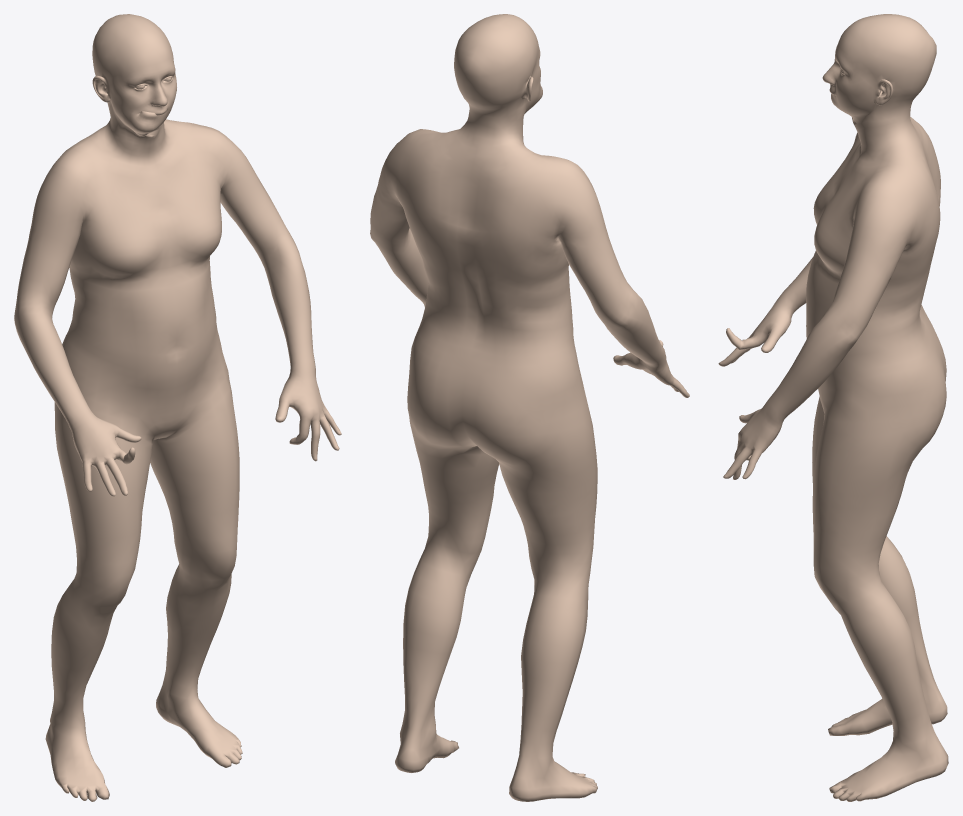
Rendered from WORD-00384.glb.
3 renders of one model, left to right at view 1: azimuth 30°, elevation 25°; view 2: azimuth 150°, elevation 25°; view 3: azimuth 270°, elevation 25°, orthographic. The views are drawn at different scales.
Size of the model in its own units: 0.6481 by 1.72 by 0.4809.
